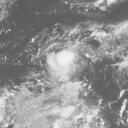cyclone: (42, 47, 78, 80)
